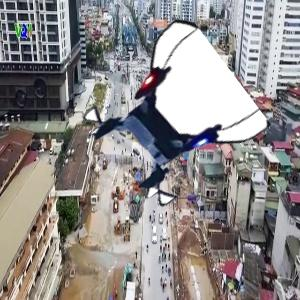drone: (92, 42, 249, 199)
